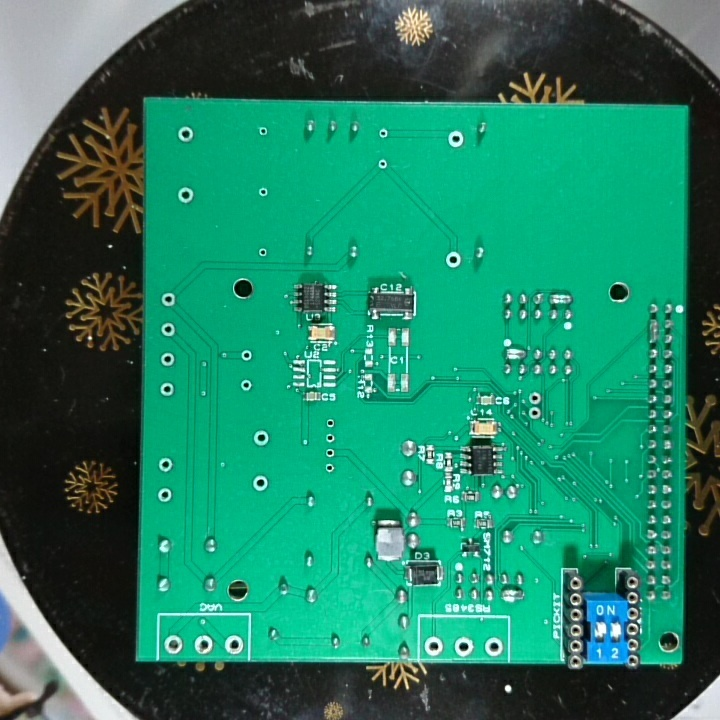F: (162, 630, 185, 659), (191, 631, 217, 655), (452, 634, 477, 658), (223, 633, 246, 658), (175, 183, 197, 208), (482, 633, 504, 658), (174, 122, 197, 145), (157, 289, 180, 312), (423, 634, 446, 657), (251, 428, 272, 449), (444, 249, 466, 269), (155, 454, 175, 476), (154, 484, 174, 506), (445, 128, 465, 149), (251, 472, 270, 494), (158, 320, 178, 340), (157, 380, 177, 400), (158, 350, 177, 369), (237, 375, 254, 394), (526, 389, 545, 406), (323, 415, 339, 432), (239, 346, 254, 364), (526, 405, 542, 421), (256, 183, 271, 200), (255, 245, 270, 262), (377, 125, 391, 142), (322, 431, 339, 445), (322, 461, 337, 476), (374, 156, 388, 172), (255, 123, 269, 139), (322, 446, 337, 460)
P: (548, 289, 575, 307), (645, 316, 660, 346), (502, 346, 528, 363), (499, 586, 525, 603)
